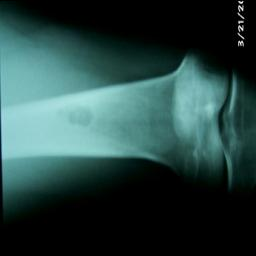cancer: (62, 103, 95, 128)
